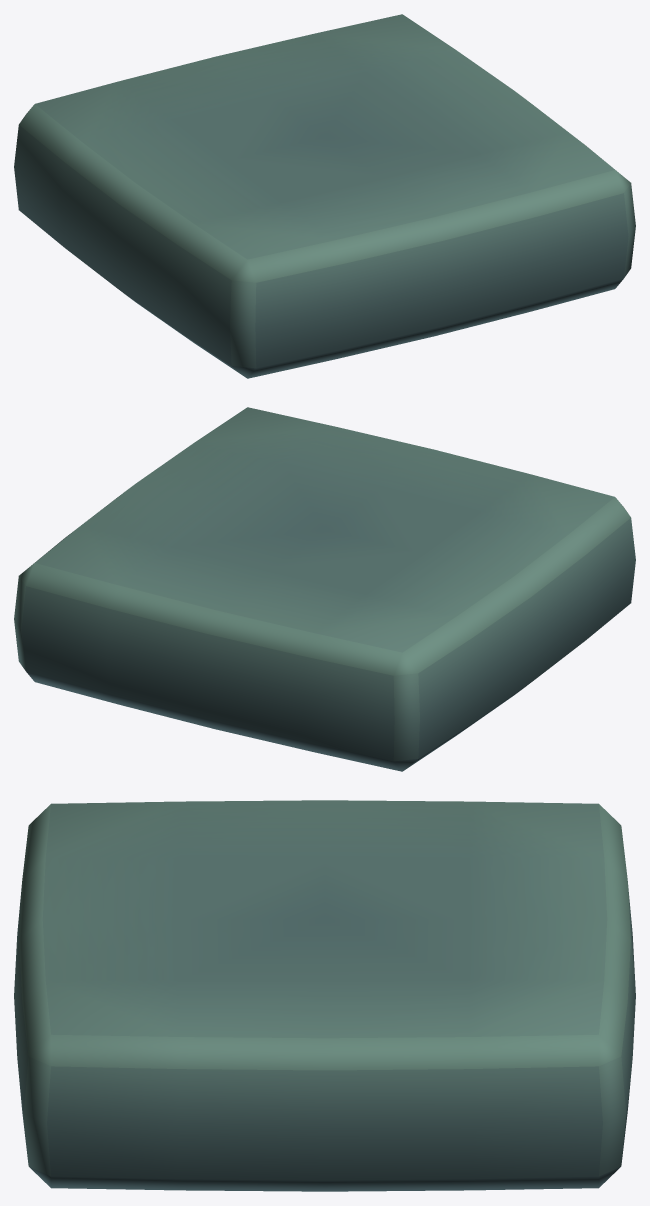
File: cube_05_shade_2_LOD_setup.fbx
3 renders of one model, top to bottom at view 1: azimuth 30°, elevation 25°; view 2: azimuth 150°, elevation 25°; view 3: azimuth 270°, elevation 25°, orthographic. The views are drawn at different scales.
Parts seen in each view (by area): view 1: cube_05_shade_2_LOD0; view 2: cube_05_shade_2_LOD0; view 3: cube_05_shade_2_LOD0.
Part boxes in pixels (bbox=[...]): cube_05_shade_2_LOD0: bbox=[14, 14, 635, 378]; cube_05_shade_2_LOD0: bbox=[14, 407, 635, 771]; cube_05_shade_2_LOD0: bbox=[14, 800, 635, 1191].
Size of what is drawn, in the model's own units: 214 by 58.2 by 214.
